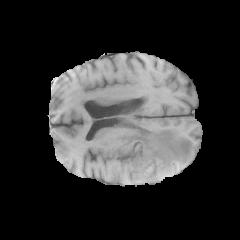glioma: (118, 127, 193, 184)
